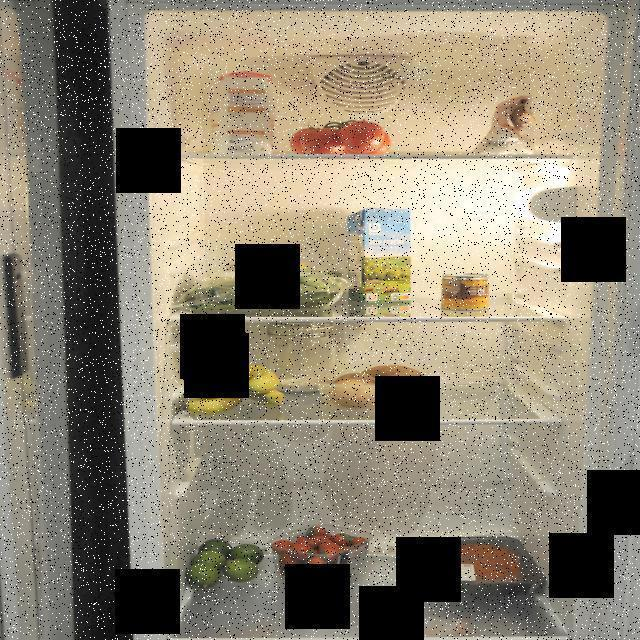banana: (182, 361, 286, 415)
beef: (417, 536, 548, 596)
corn: (442, 272, 491, 312)
flour: (260, 320, 342, 398), (466, 91, 556, 156)
lime: (187, 539, 264, 589)
milk: (344, 206, 412, 304)
potato: (321, 360, 435, 416)
spinach: (174, 259, 350, 317)
strawberries: (266, 522, 374, 584)
sugar: (210, 70, 276, 154)
tomato: (286, 117, 396, 157)
